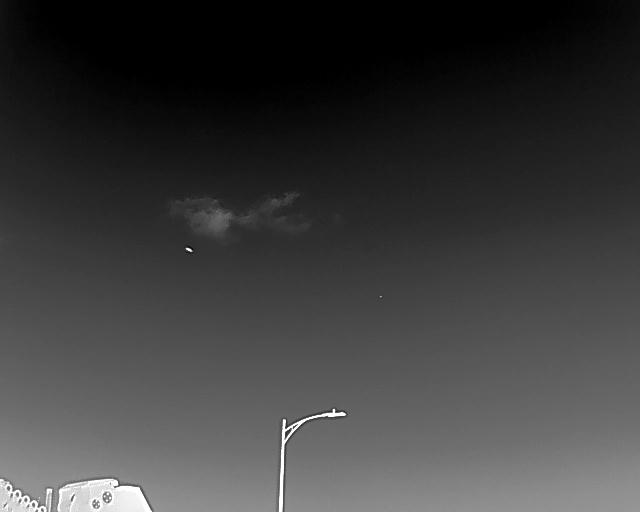fpv-drone: (184, 245, 194, 252)
